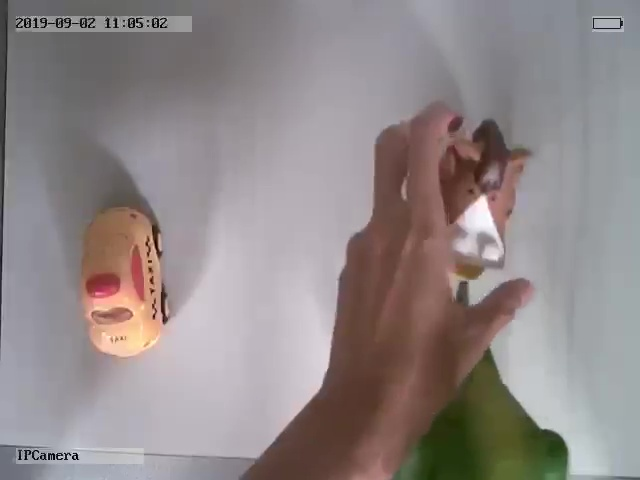car: (81, 206, 172, 359)
